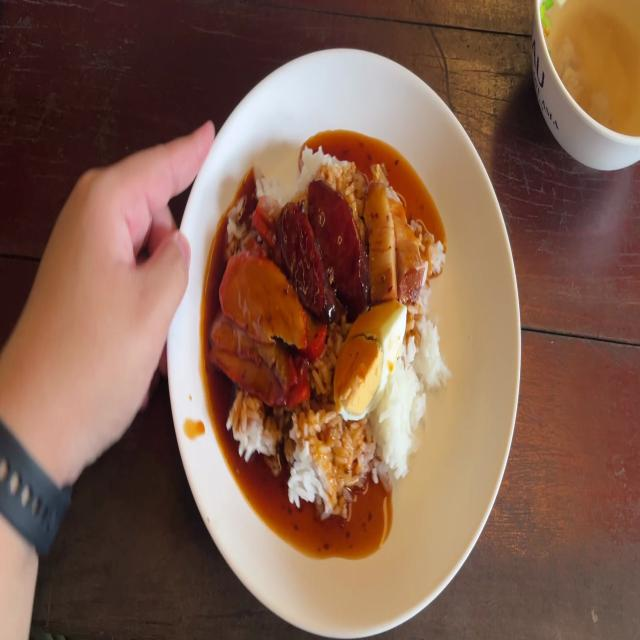01boiled_egg: (339, 300, 406, 419)
01chainese_sausage: (281, 180, 365, 312), (309, 186, 366, 295), (278, 205, 328, 309)
01crispy_pork: (367, 165, 424, 301), (377, 157, 423, 301), (366, 182, 393, 298)
01red_pork: (208, 255, 309, 402), (220, 246, 308, 336), (210, 323, 298, 402)
01red_pork_and_crispy_pork: (213, 144, 451, 521)
01rice: (232, 402, 370, 510), (381, 368, 423, 473), (412, 310, 448, 390)
